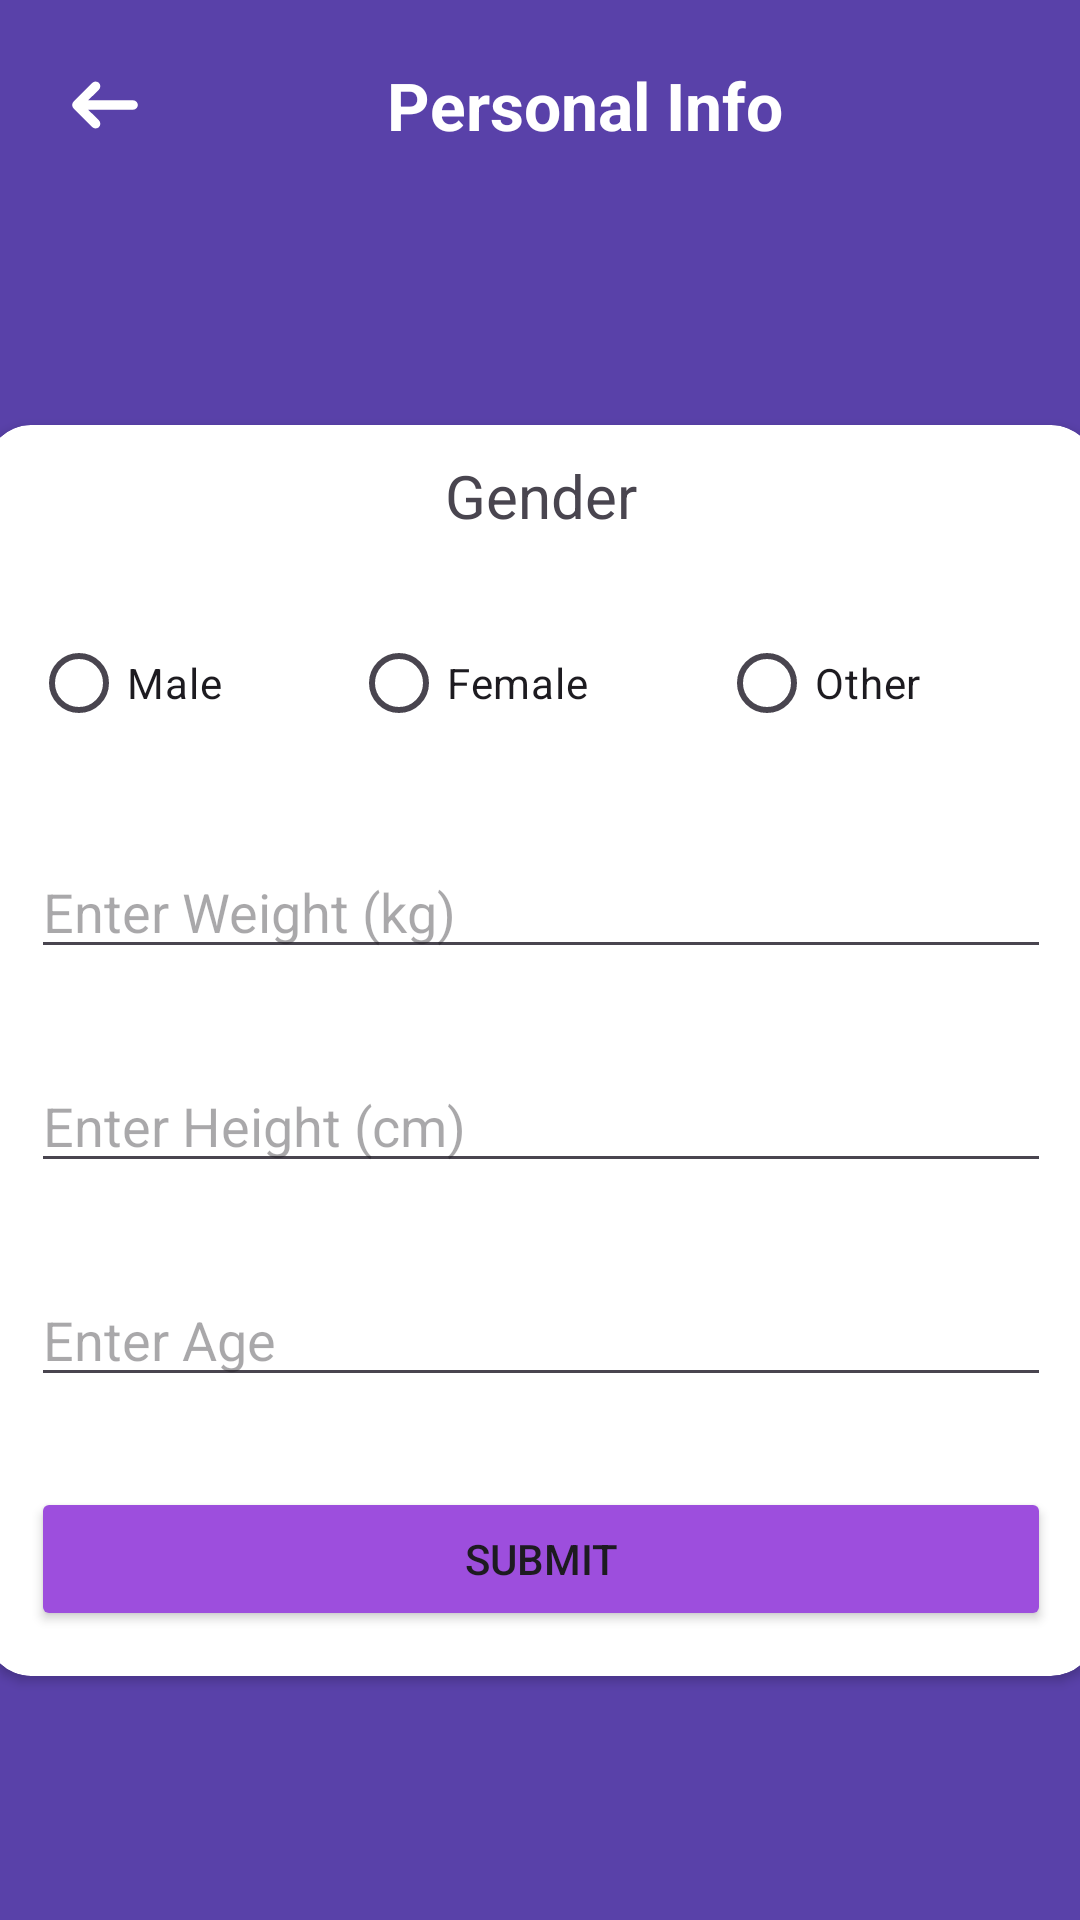

Screen size 1080px×1920px. Icon name, then its box in pixels as [left=x1, top=y1, right=x2, bottom=y2]:
Back Button: [left=72, top=81, right=138, bottom=129]
